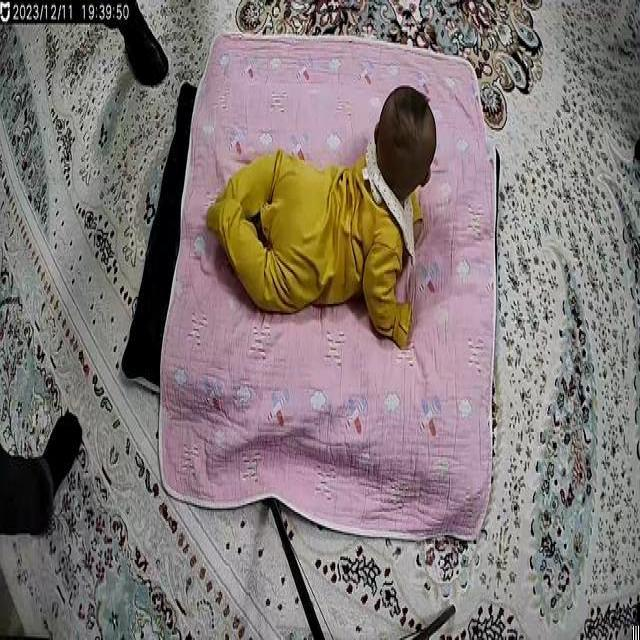baby: (210, 82, 446, 353)
